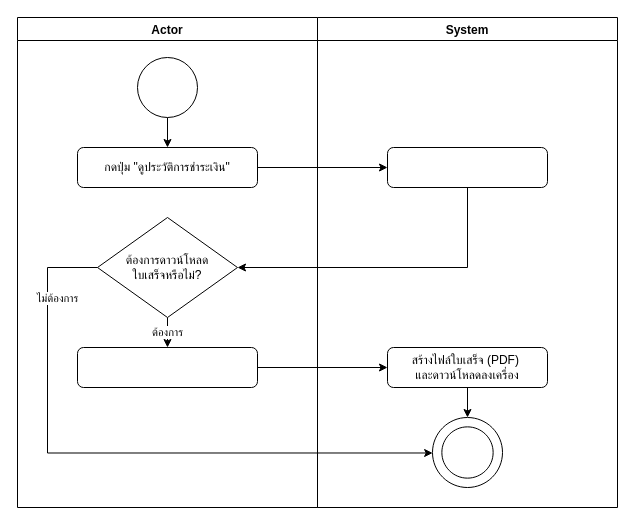
Some shapes in this 635 by 525 pixel diagram are drawn without their labels. The shapes that lost their labels are listed below. From the top down, each one's centre as x and y in pixels, then its label:
the point at 467,167: แสดงรายการประวัติการชำระเงินย้อนหลังพร้อมสถานะ
the point at 167,367: เลือกรอบบิลที่ "ชำระสำเร็จ" และกดปุ่ม "ดาวน์โหลดใบเสร็จ"
